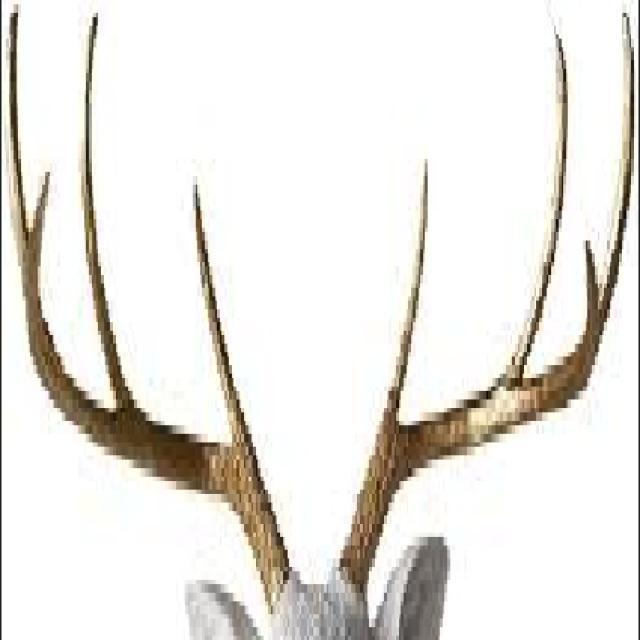L-F: (338, 5, 636, 602)
L-G1: (380, 151, 428, 422)
L-G2: (504, 13, 569, 374)
L-G3: (581, 235, 600, 331)
R-F: (5, 2, 292, 617)
R-G1: (189, 166, 257, 452)
R-G2: (77, 5, 139, 407)
R-G3: (28, 165, 52, 277)
